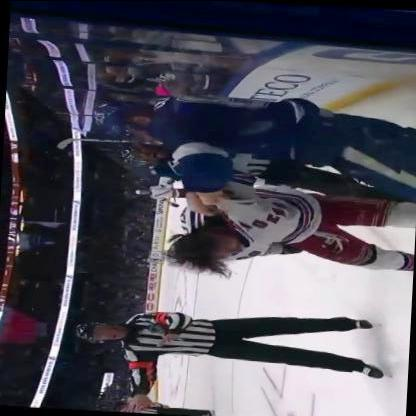non-Voilence: (69, 302, 389, 406)
voilence: (83, 87, 415, 295)
